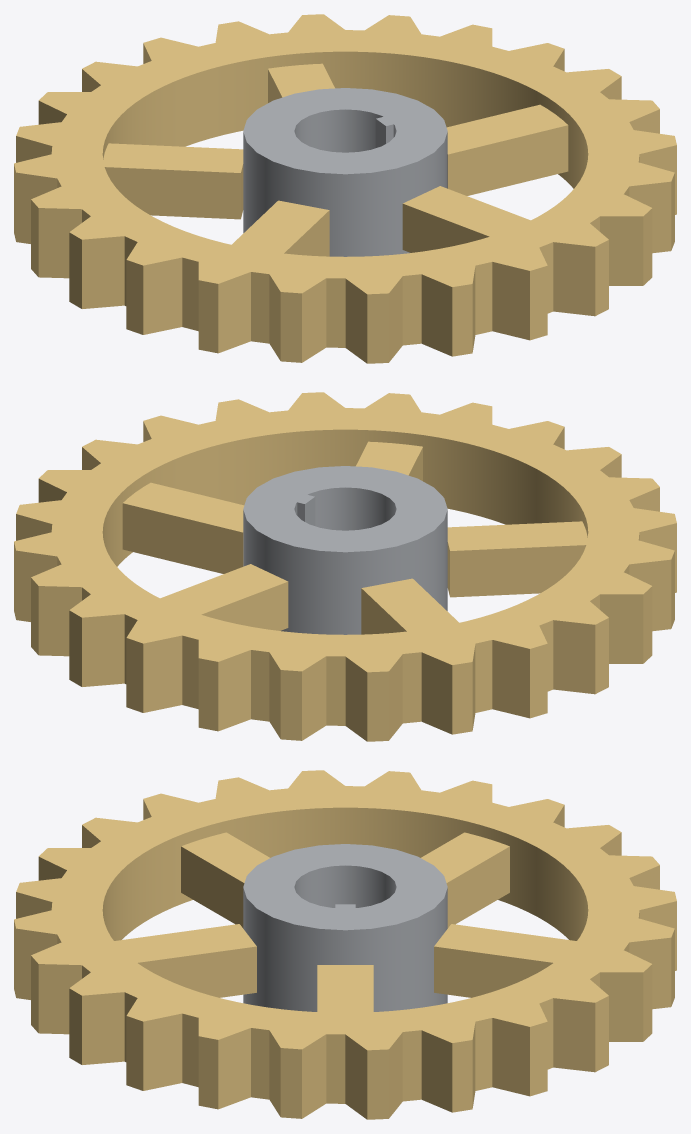
Rendered from SM_RepairGear.fbx.
The picture shows the model from 3 angles, top to bottom: view 1: azimuth 30°, elevation 25°; view 2: azimuth 150°, elevation 25°; view 3: azimuth 270°, elevation 25°; orthographic projection.
Parts seen in each view (by area): view 1: SM_RepairGear; view 2: SM_RepairGear; view 3: SM_RepairGear.
Part boxes in pixels (x1,y1,x2,y2): SM_RepairGear: (14,14,676,363); SM_RepairGear: (14,392,676,741); SM_RepairGear: (14,770,676,1119).
Size of the model in its own units: 0.2594 by 0.05 by 0.2594.
